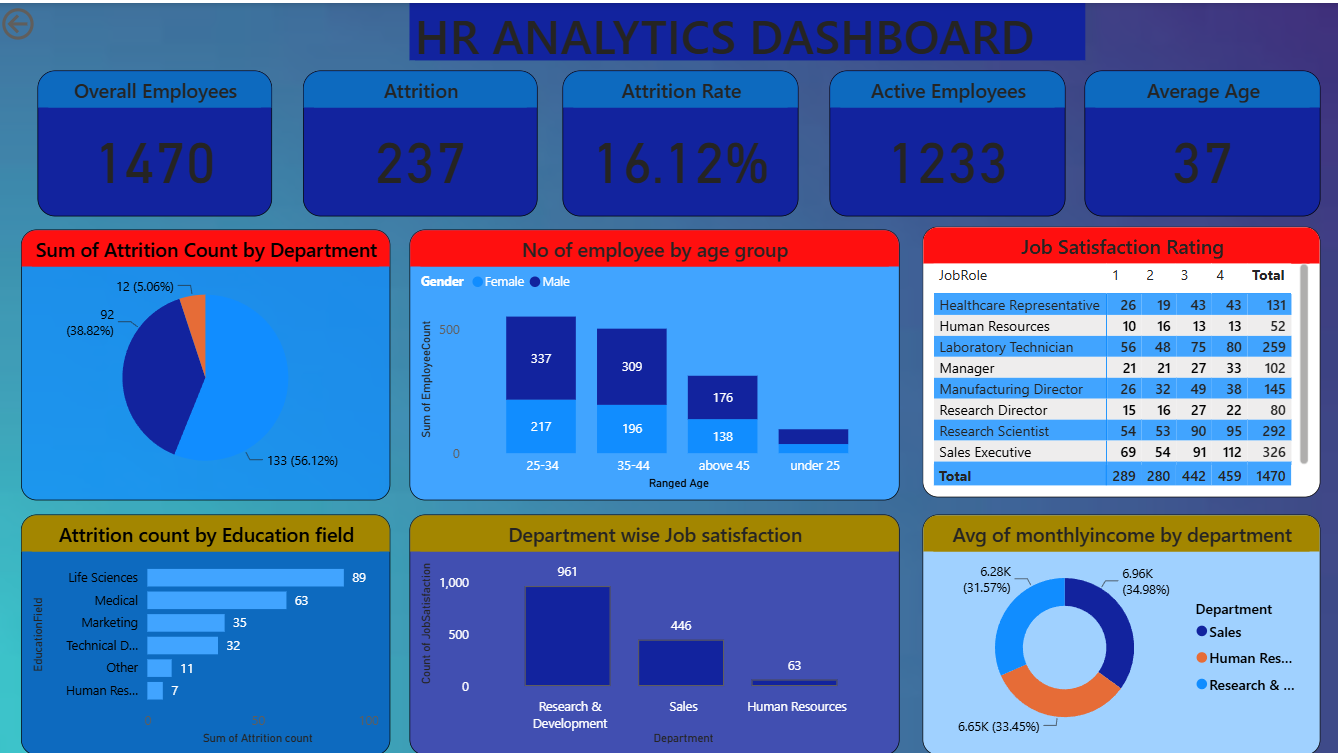

The dashboard page shown, as its layout file describes it:
{"tool":"powerbi","page":{"name":"Page 1","canvas":[1280,720],"ordinal":0},"visuals":[{"type":"card","title":"Overall Employees","fields":{"Values":["Sum(HR-Employee-Attrition.EmployeeCount)"]},"box":[39.4,65.1,224.1,139.3],"z":0},{"type":"card","title":"Attrition ","fields":{"Values":["Sum(HR-Employee-Attrition.Attrition count)"]},"box":[292.2,65.1,224.1,139.3],"z":1000},{"type":"card","title":"Attrition Rate","fields":{"Values":["HR-Employee-Attrition.Attrition Rate"]},"box":[540.6,65.1,225.6,139.3],"z":2000},{"type":"card","title":"Active Employees","fields":{"Values":["HR-Employee-Attrition.Active Employees"]},"box":[795,65.1,225.6,139.3],"z":3000},{"type":"card","title":"Average Age","fields":{"Values":["Avg(HR-Employee-Attrition.Age)"]},"box":[1038.7,65.1,225.6,139.3],"z":4000},{"type":"pieChart","title":"Sum of Attrition Count by Department","fields":{"Category":["HR-Employee-Attrition.Department"],"Y":["Sum(HR-Employee-Attrition.Attrition count)"]},"box":[22.7,216.5,352.8,258.9],"z":5000},{"type":"columnChart","title":"No of employee by age group ","fields":{"Category":["HR-Employee-Attrition.Ranged Age "],"Y":["Sum(HR-Employee-Attrition.EmployeeCount)"],"Series":["HR-Employee-Attrition.Gender"]},"box":[393.7,216.5,467.9,258.9],"z":6000},{"type":"pivotTable","title":"Job Satisfaction Rating ","fields":{"Rows":["HR-Employee-Attrition.JobRole"],"Columns":["HR-Employee-Attrition.JobSatisfaction"],"Values":["Sum(HR-Employee-Attrition.EmployeeCount)"]},"box":[884.3,213.5,380.1,258.9],"z":7000},{"type":"barChart","title":"Attrition count  by Education field","fields":{"Y":["Sum(HR-Employee-Attrition.Attrition count)"],"Category":["HR-Employee-Attrition.EducationField"]},"box":[22.7,489.1,352.8,230.2],"z":8000},{"type":"columnChart","title":"Department wise Job satisfaction ","fields":{"Category":["HR-Employee-Attrition.Department"],"Y":["CountNonNull(HR-Employee-Attrition.JobSatisfaction)"]},"box":[393.7,489.1,467.9,230.2],"z":9000},{"type":"donutChart","title":"Avg of monthlyincome by department","fields":{"Category":["HR-Employee-Attrition.Department"],"Y":["Avg(HR-Employee-Attrition.MonthlyIncome)"]},"box":[884.3,489.1,380.1,230.2],"z":10000},{"type":"textbox","title":"HR ANALYTICS DASHBOARD ","box":[393.7,0,645.1,54.5],"z":11000},{"type":"actionButton","box":[0,0,100,40],"z":13000}]}

Visuals, with their boxes in screenshot pixels (x1, y1, x2, y2), scaled from the page's 1280x720 canvas onto the 1338x753 screenshot:
"Overall Employees" card: [x1=41, y1=68, x2=275, y2=214]
"Attrition " card: [x1=305, y1=68, x2=540, y2=214]
"Attrition Rate" card: [x1=565, y1=68, x2=801, y2=214]
"Active Employees" card: [x1=831, y1=68, x2=1067, y2=214]
"Average Age" card: [x1=1086, y1=68, x2=1322, y2=214]
"Sum of Attrition Count by Department" pieChart: [x1=24, y1=226, x2=393, y2=497]
"No of employee by age group " columnChart: [x1=412, y1=226, x2=901, y2=497]
"Job Satisfaction Rating " pivotTable: [x1=924, y1=223, x2=1322, y2=494]
"Attrition count  by Education field" barChart: [x1=24, y1=512, x2=393, y2=752]
"Department wise Job satisfaction " columnChart: [x1=412, y1=512, x2=901, y2=752]
"Avg of monthlyincome by department" donutChart: [x1=924, y1=512, x2=1322, y2=752]
"HR ANALYTICS DASHBOARD " textbox: [x1=412, y1=0, x2=1086, y2=57]
actionButton: [x1=0, y1=0, x2=105, y2=42]
